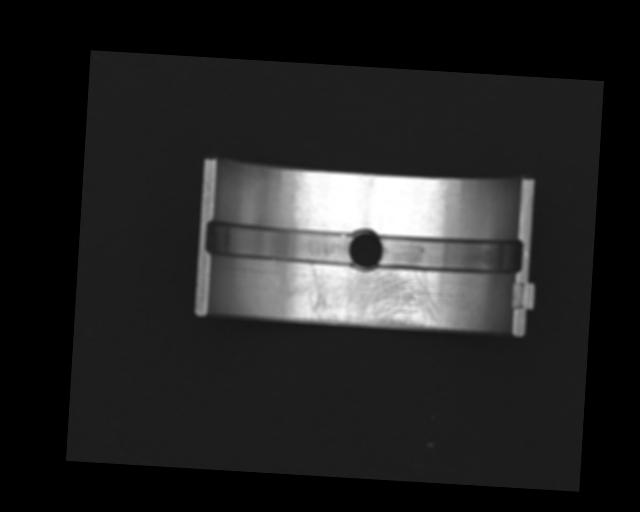gap: (205, 220, 355, 267), (378, 234, 525, 273)
hole: (348, 226, 382, 272)
scratch: (294, 262, 441, 329)
